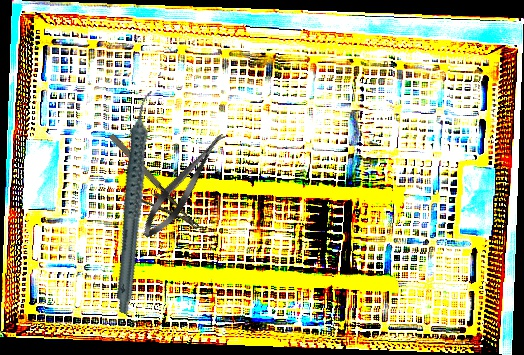Handpiece: (72, 88, 201, 316)
Micro Scissor: (135, 126, 233, 244)
Needle Holder: (92, 130, 201, 248)
